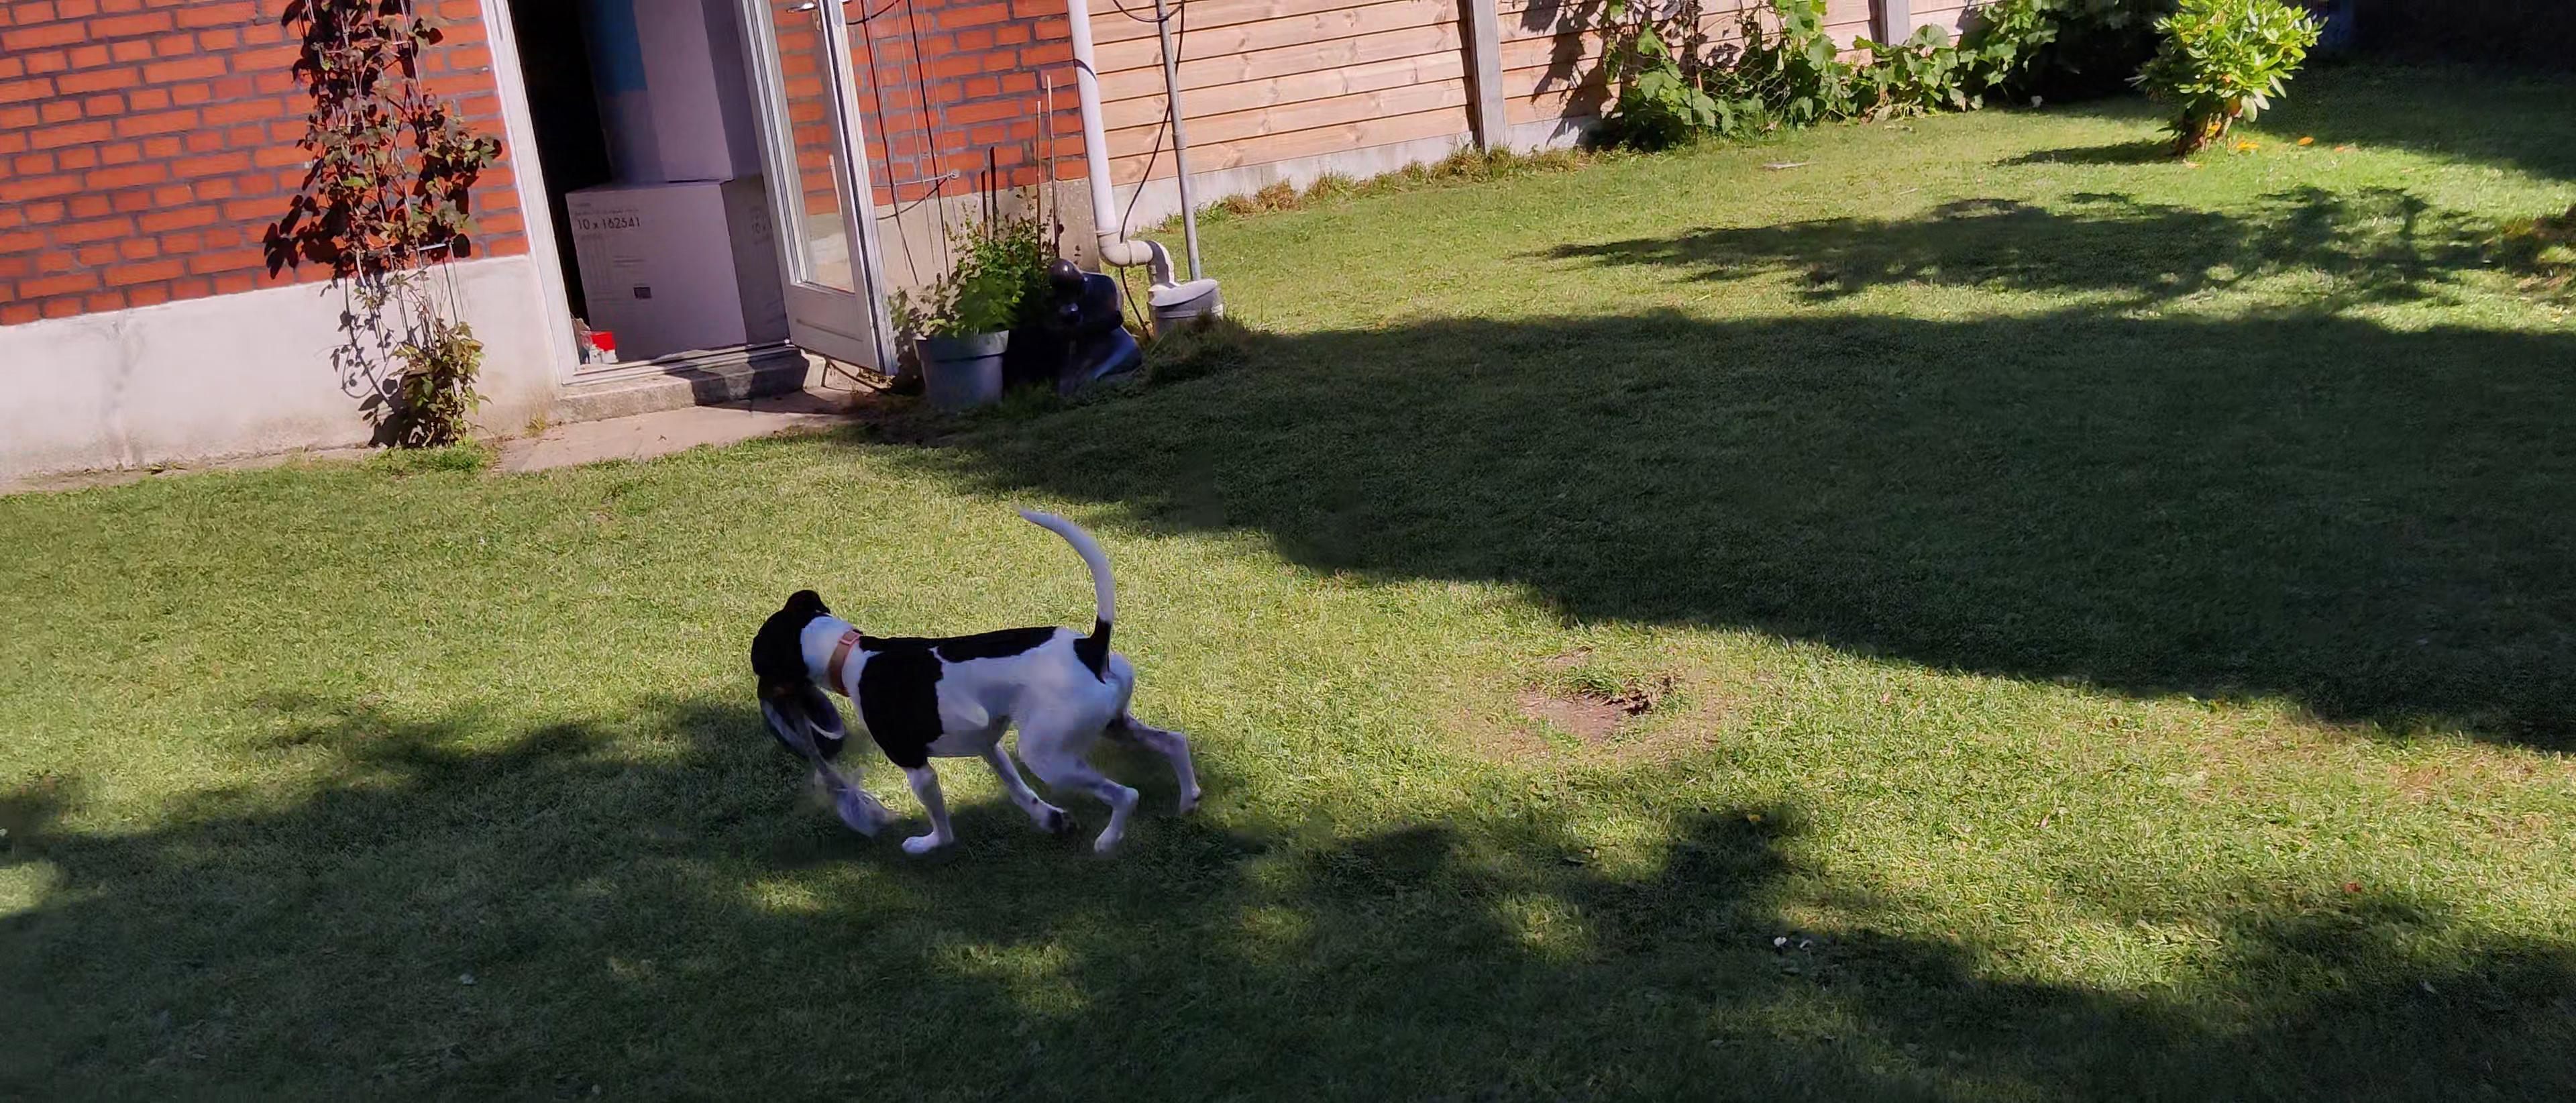Dog: (723, 500, 1244, 871)
